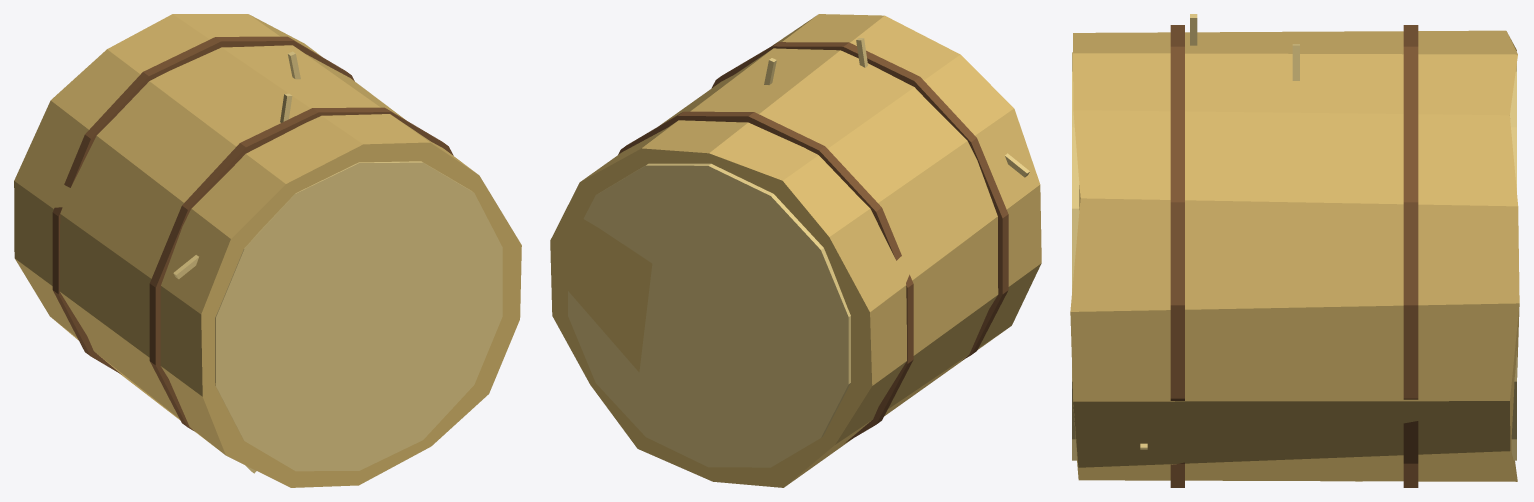
Rendered from sm_env_prop_hay_bale.glb.
3 views of the same model, side by side, from view 1: azimuth 30°, elevation 25°; view 2: azimuth 150°, elevation 25°; view 3: azimuth 270°, elevation 25° (orthographic). The views are drawn at different scales.
Parts seen in each view (by area): view 1: HayBale, BaleFace, BaleTwine, BaleTwine.001; view 2: HayBale, BaleFace.001, BaleTwine, BaleTwine.001; view 3: HayBale, BaleTwine.001, BaleTwine, BaleFace, BaleFace.001.
Boxes of the visible parts, x1,y1,x2,y2 form: HayBale: (14, 14, 521, 487); BaleFace: (215, 161, 502, 471); BaleTwine: (149, 107, 453, 431); BaleTwine.001: (52, 36, 354, 374); HayBale: (550, 14, 1041, 487); BaleFace.001: (568, 163, 850, 467); BaleTwine: (711, 42, 1008, 360); BaleTwine.001: (618, 111, 913, 443); HayBale: (1070, 30, 1519, 481); BaleTwine.001: (1403, 25, 1418, 487); BaleTwine: (1170, 25, 1184, 487); BaleFace: (1072, 52, 1079, 460); BaleFace.001: (1510, 64, 1516, 460).
Size of the model in its own units: 1.24 by 1.39 by 1.23.
